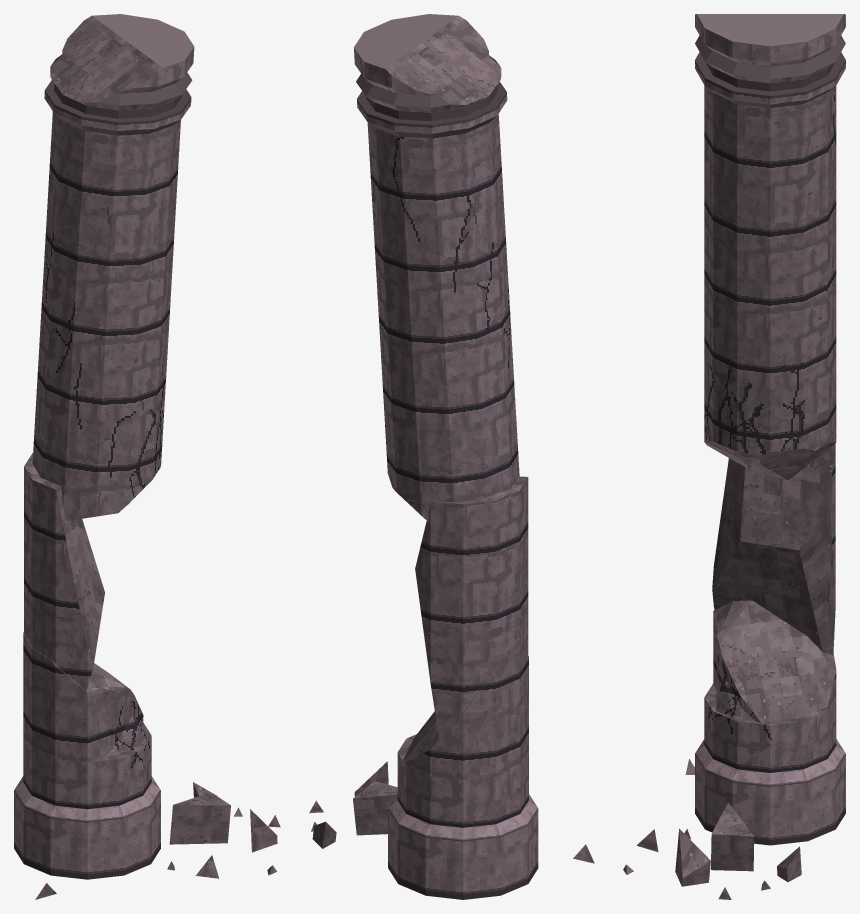
File: column_falling.glb
3 renders of one model, left to right at view 1: azimuth 30°, elevation 25°; view 2: azimuth 150°, elevation 25°; view 3: azimuth 270°, elevation 25°, orthographic. The views are drawn at different scales.
Parts seen in each view (by area): view 1: upper_2, base, upper_1, capital, waist, lower; view 2: upper_2, waist, base, upper_1, capital, lower; view 3: upper_2, base, upper_1, waist, capital, lower.
Part boxes in pixels (<box>): upper_2: <box>39,111,180,370</box>; base: <box>14,722,280,899</box>; upper_1: <box>32,336,168,520</box>; capital: <box>44,14,194,135</box>; waist: <box>24,453,104,690</box>; lower: <box>23,632,147,771</box>; upper_2: <box>367,114,511,379</box>; waist: <box>415,476,528,738</box>; base: <box>309,734,594,899</box>; upper_1: <box>380,337,519,521</box>; capital: <box>354,14,507,138</box>; lower: <box>402,655,528,789</box>; upper_2: <box>704,86,836,327</box>; base: <box>623,683,845,899</box>; upper_1: <box>704,296,836,479</box>; waist: <box>712,443,835,655</box>; capital: <box>695,14,845,108</box>; lower: <box>713,600,836,727</box>.
Size of the model in its own units: 2.04 by 6 by 1.48.
1 material, 1 textured.
